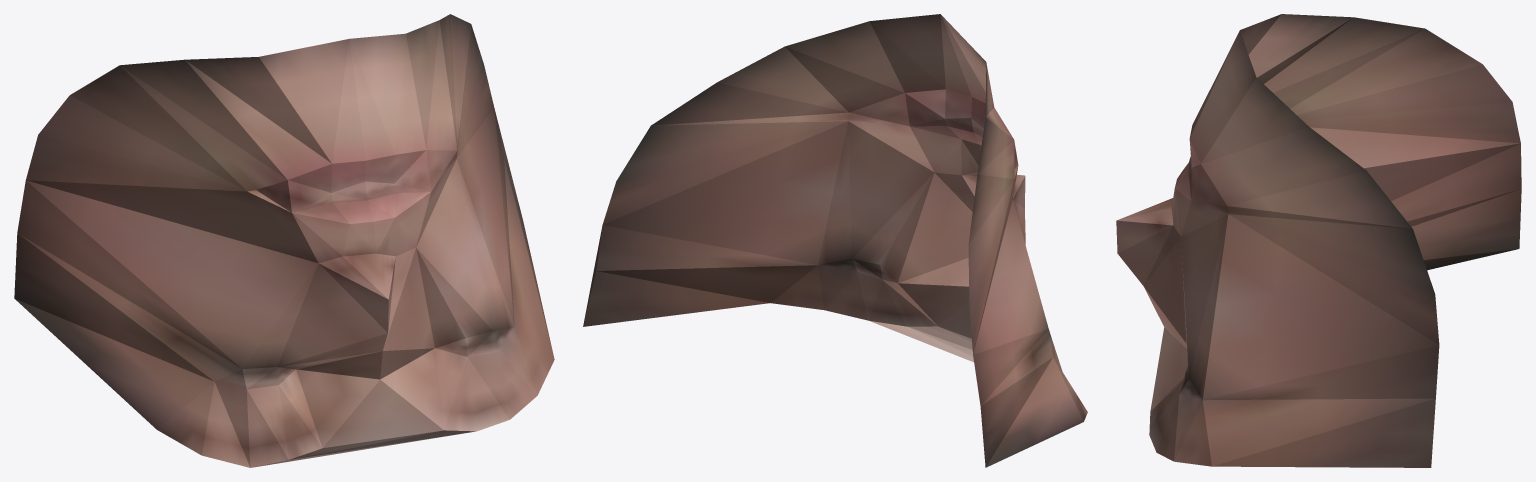
Rendered from fake_67061.obj.
3 views of the same model, side by side, from view 1: azimuth 30°, elevation 25°; view 2: azimuth 150°, elevation 25°; view 3: azimuth 270°, elevation 25° (orthographic). The views are drawn at different scales.
Size of the model in its own units: 114 by 91 by 89.15.
